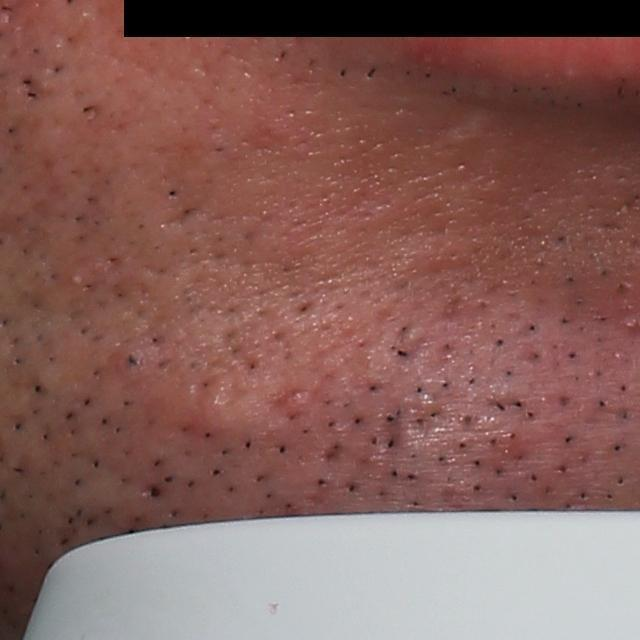hypertrophic_scar: (140, 364, 294, 455)
